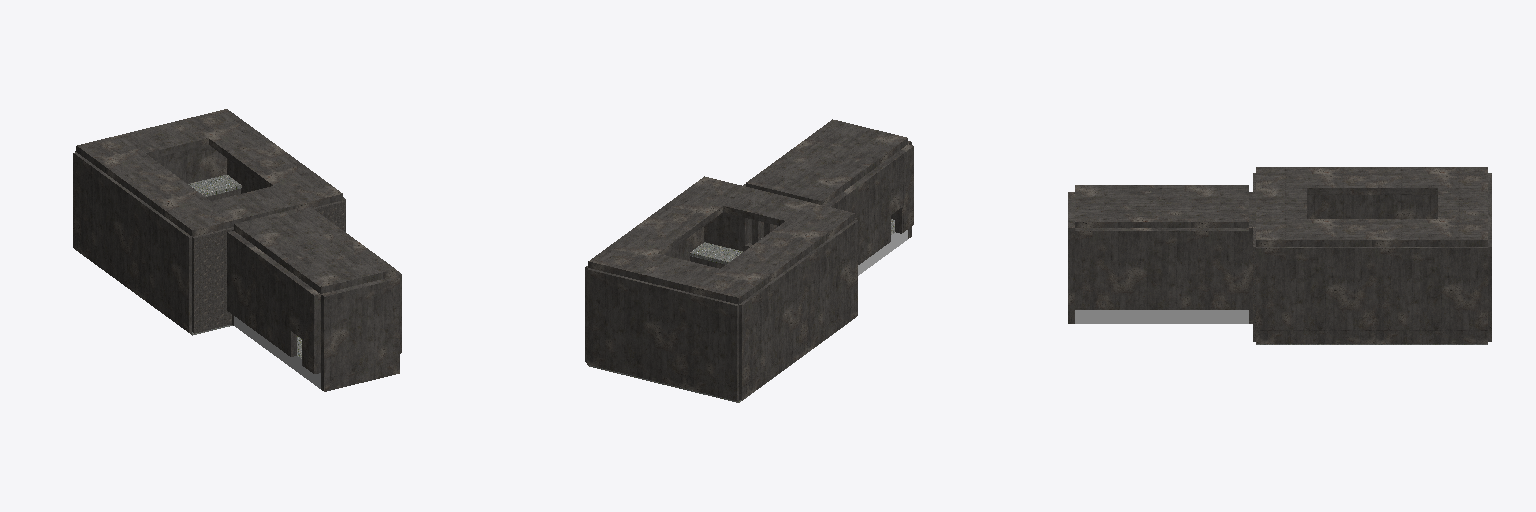
3 renders of one model, left to right at view 1: azimuth 30°, elevation 25°; view 2: azimuth 150°, elevation 25°; view 3: azimuth 270°, elevation 25°, orthographic.
Visible parts, largest first — view 1: entity0_brush38, entity0_brush1, entity0_brush2, entity0_brush48, entity0_brush47, entity0_brush13, entity0_brush41, entity0_brush49, entity0_brush39, entity0_brush50, entity0_brush14, entity0_brush8 (+3 smaller); view 2: entity0_brush39, entity0_brush38, entity0_brush2, entity0_brush48, entity0_brush47, entity0_brush13, entity0_brush49, entity0_brush50, entity0_brush14, entity0_brush40, entity0_brush37, entity0_brush42 (+2 smaller); view 3: entity0_brush37, entity0_brush0, entity0_brush2, entity0_brush47, entity0_brush48, entity0_brush38, entity0_brush10, entity0_brush50, entity0_brush49, entity0_brush1, entity0_brush39.
Part boxes in pixels (left/top/right/bottom): entity0_brush38: left=73, top=152, right=191, bottom=332; entity0_brush1: left=321, top=276, right=399, bottom=391; entity0_brush2: left=234, top=206, right=395, bottom=293; entity0_brush48: left=76, top=135, right=235, bottom=236; entity0_brush47: left=183, top=109, right=342, bottom=207; entity0_brush13: left=227, top=231, right=296, bottom=356; entity0_brush41: left=192, top=228, right=231, bottom=333; entity0_brush49: left=121, top=120, right=208, bottom=157; entity0_brush39: left=75, top=145, right=226, bottom=183; entity0_brush50: left=211, top=186, right=298, bottom=222; entity0_brush14: left=302, top=285, right=320, bottom=373; entity0_brush8: left=234, top=316, right=320, bottom=388; entity0_brush39: left=587, top=268, right=738, bottom=400; entity0_brush38: left=739, top=220, right=857, bottom=400; entity0_brush2: left=746, top=119, right=907, bottom=204; entity0_brush48: left=695, top=203, right=854, bottom=304; entity0_brush47: left=588, top=176, right=747, bottom=277; entity0_brush13: left=824, top=162, right=890, bottom=264; entity0_brush49: left=632, top=254, right=719, bottom=293; entity0_brush50: left=723, top=187, right=810, bottom=225; entity0_brush14: left=895, top=144, right=913, bottom=233; entity0_brush40: left=704, top=212, right=741, bottom=250; entity0_brush37: left=585, top=227, right=703, bottom=362; entity0_brush42: left=690, top=242, right=742, bottom=264; entity0_brush37: left=1256, top=247, right=1487, bottom=343; entity0_brush0: left=1075, top=228, right=1248, bottom=309; entity0_brush2: left=1075, top=185, right=1248, bottom=227; entity0_brush47: left=1256, top=219, right=1487, bottom=246; entity0_brush48: left=1256, top=167, right=1487, bottom=194; entity0_brush38: left=1307, top=195, right=1437, bottom=218; entity0_brush10: left=1075, top=311, right=1248, bottom=323; entity0_brush50: left=1256, top=188, right=1306, bottom=218; entity0_brush49: left=1438, top=188, right=1487, bottom=218; entity0_brush1: left=1068, top=192, right=1074, bottom=323; entity0_brush39: left=1488, top=173, right=1491, bottom=341.
Size of the model in its own units: 800 by 512 by 1872.
3 materials, 2 textured.